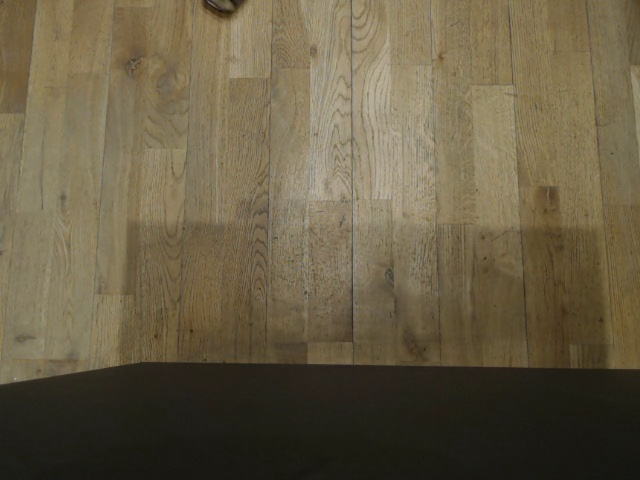beer: (200, 0, 237, 17)
